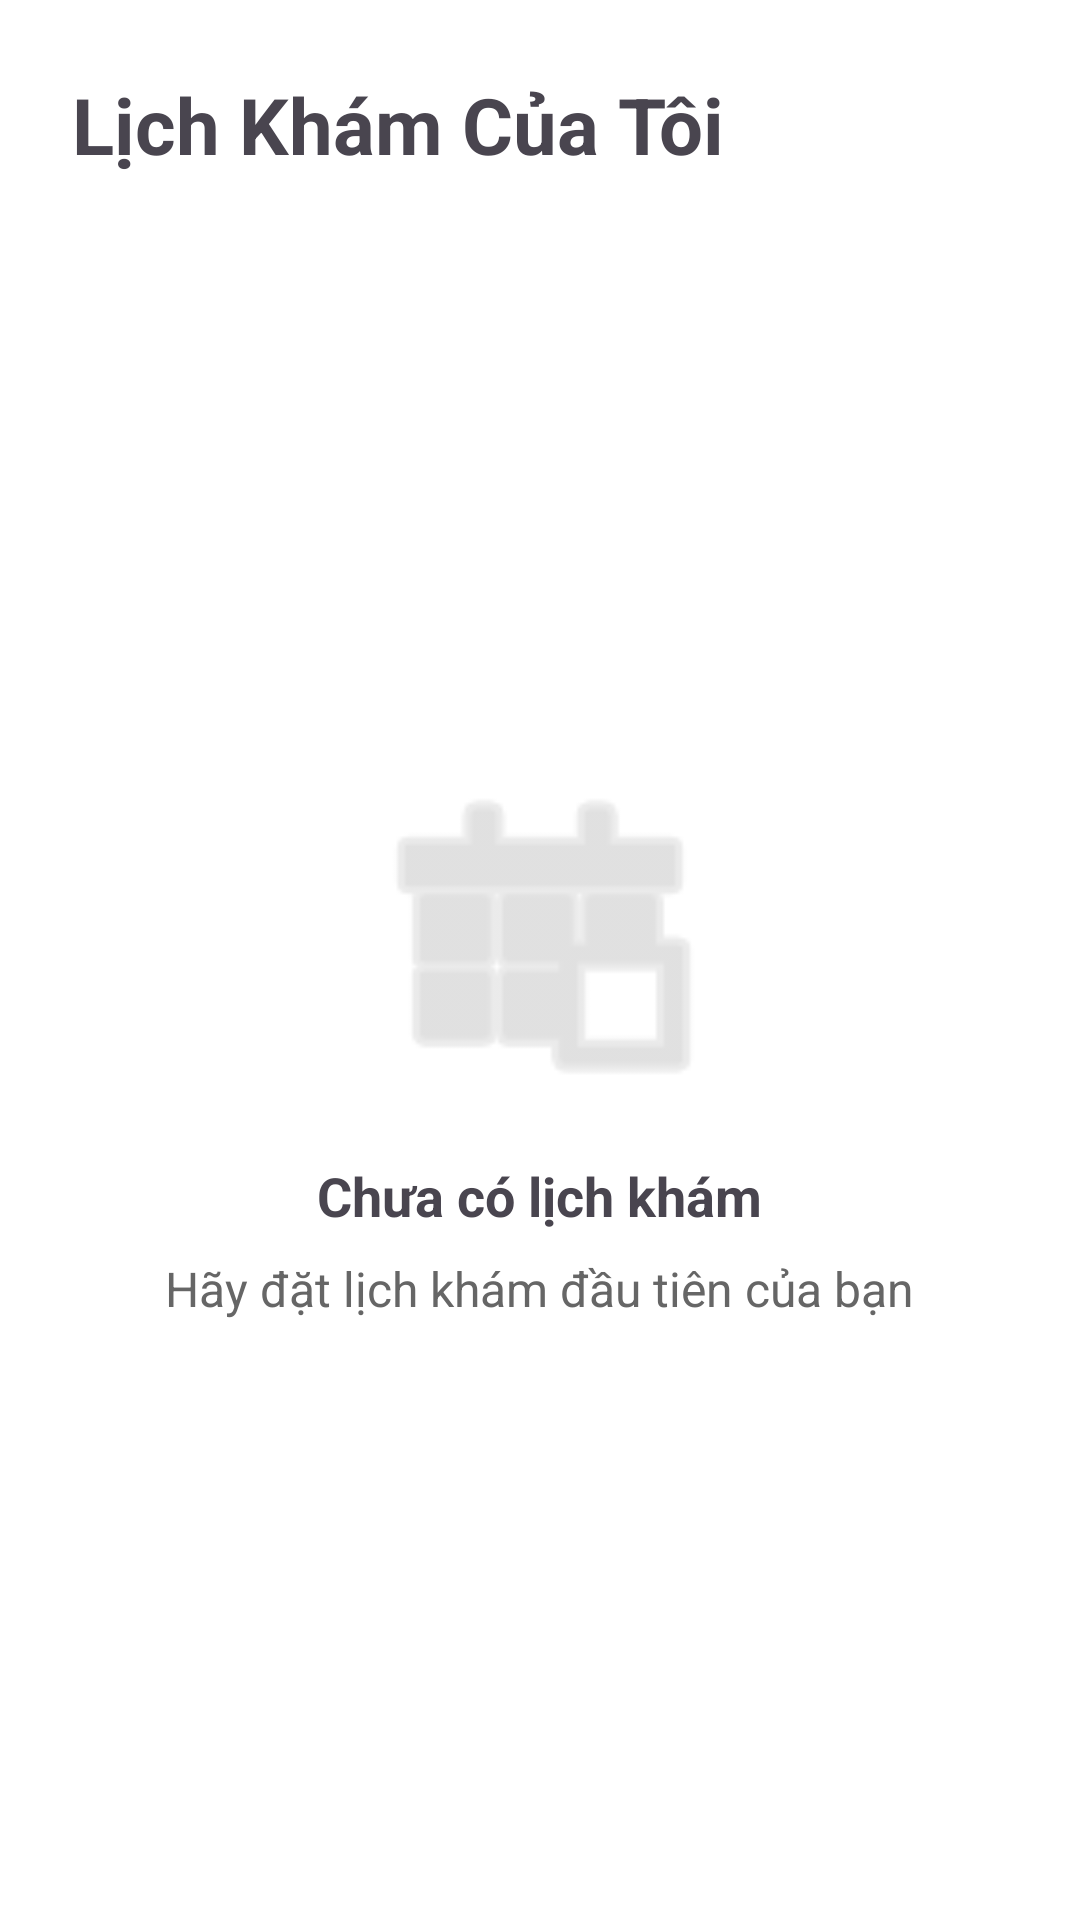

Named icons in this screenshot (1080w x 1920h) and their bounding boxes, box(x1, y1, x2, y2):
today: box(404, 808, 683, 1066)
